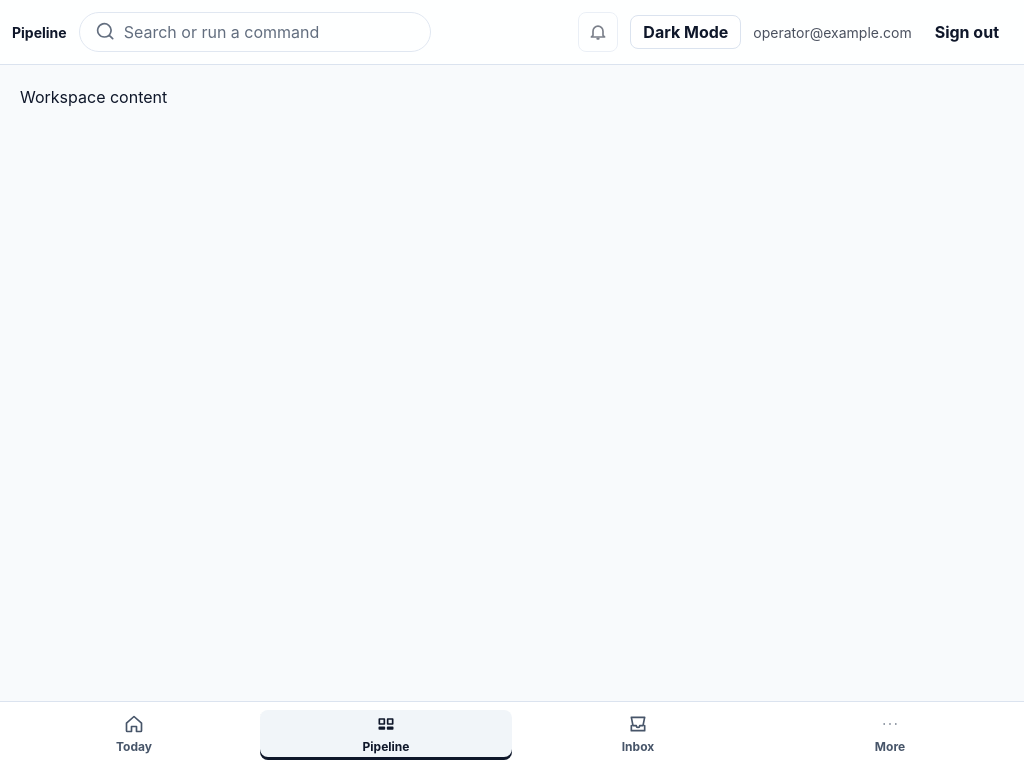
Scenario: AppShell › renders compact mobile navigation and More menu items
Expected: the navigation bar named "Mobile navigation" is shown, [0,701,1023,767]
Click the button with aria-label "Open more workspaces". click: [890, 735]
box: [764,710,1016,760]
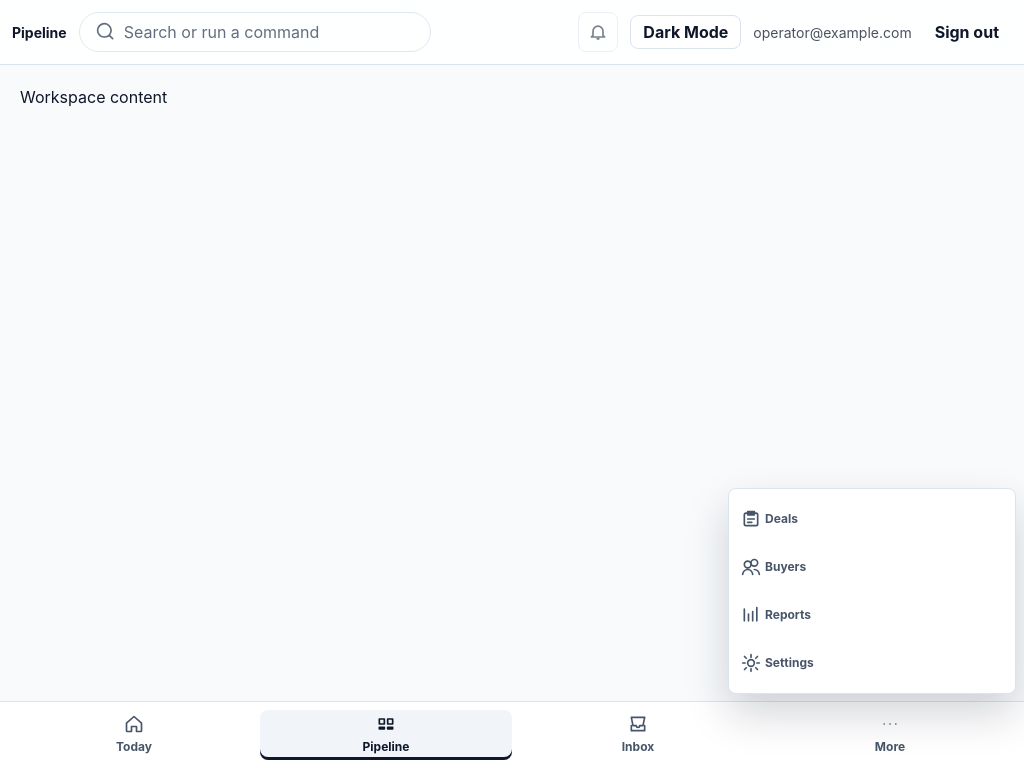
Expected: the menu item "Deals" is shown, [737,497,1007,541]
Expected: the menu item "Reports" is shown, [737,593,1007,637]
